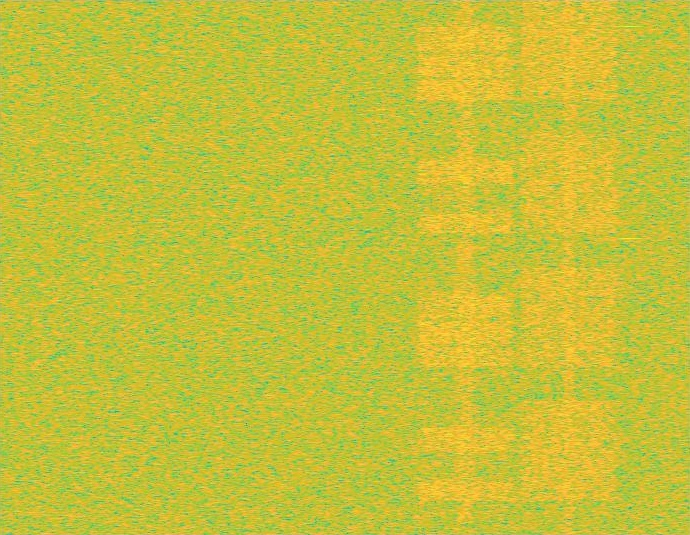5G: (518, 0, 621, 534)
DSSS: (454, 0, 477, 534), (562, 0, 576, 534)
LTE: (414, 0, 518, 534)
Radar: (622, 0, 636, 534)
